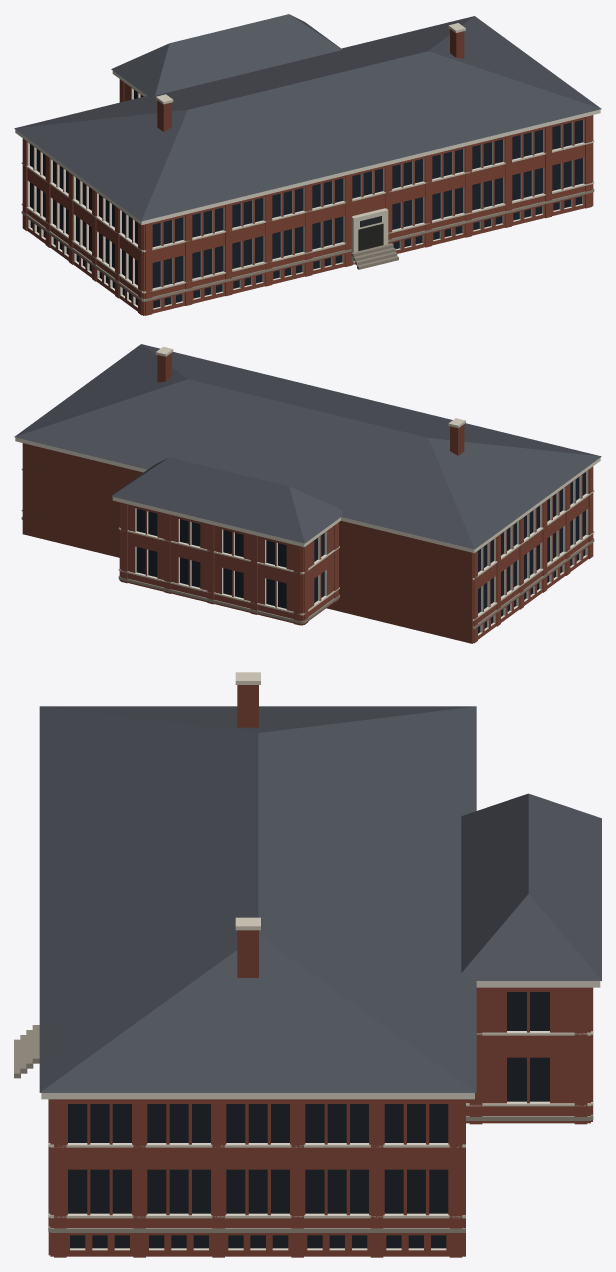
Rendered from argenta-high-school.glb.
3 renders of one model, top to bottom at view 1: azimuth 30°, elevation 25°; view 2: azimuth 150°, elevation 25°; view 3: azimuth 270°, elevation 25°, orthographic. The views are drawn at different scales.
Parts seen in each view (by area): view 1: argenta_slate, argenta_brick, argenta_glass, argenta_sash, argenta_stone, argenta_base, argenta_trim, argenta_brick2, argenta_dark; view 2: argenta_slate, argenta_brick2, argenta_brick, argenta_glass, argenta_sash, argenta_trim, argenta_stone, argenta_base; view 3: argenta_slate, argenta_brick, argenta_glass, argenta_stone, argenta_base, argenta_trim, argenta_sash, argenta_brick2.
Part boxes in pixels (x1=…): argenta_slate: x1=14, y1=14, x2=601, y2=221; argenta_brick: x1=22, y1=79, x2=593, y2=315; argenta_glass: x1=30, y1=90, x2=582, y2=308; argenta_sash: x1=27, y1=88, x2=584, y2=309; argenta_stone: x1=21, y1=23, x2=594, y2=293; argenta_base: x1=21, y1=188, x2=594, y2=301; argenta_trim: x1=15, y1=70, x2=600, y2=224; argenta_brick2: x1=157, y1=29, x2=464, y2=131; argenta_dark: x1=358, y1=224, x2=382, y2=251; argenta_slate: x1=14, y1=344, x2=601, y2=549; argenta_brick2: x1=22, y1=353, x2=472, y2=643; argenta_brick: x1=119, y1=466, x2=593, y2=643; argenta_glass: x1=136, y1=472, x2=585, y2=633; argenta_sash: x1=135, y1=470, x2=588, y2=635; argenta_trim: x1=15, y1=437, x2=600, y2=553; argenta_stone: x1=21, y1=346, x2=594, y2=621; argenta_base: x1=21, y1=516, x2=594, y2=629; argenta_slate: x1=39, y1=706, x2=601, y2=1092; argenta_brick: x1=48, y1=987, x2=592, y2=1257; argenta_glass: x1=68, y1=992, x2=549, y2=1248; argenta_stone: x1=48, y1=672, x2=592, y2=1218; argenta_base: x1=14, y1=988, x2=593, y2=1232; argenta_trim: x1=41, y1=981, x2=600, y2=1099; argenta_sash: x1=68, y1=1031, x2=549, y2=1250; argenta_brick2: x1=237, y1=685, x2=258, y2=977.
Bounding box in the file's own units: 50.4 × 16.35 × 32.41.
